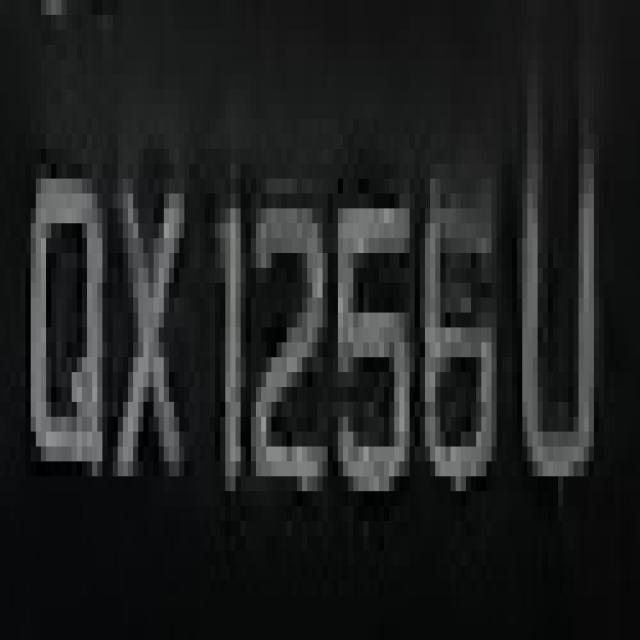1: (194, 104, 251, 581)
2: (235, 119, 333, 595)
5: (322, 178, 410, 536)
6: (404, 104, 492, 536)
Q: (21, 119, 112, 536)
U: (497, 119, 604, 491)
X: (108, 134, 190, 506)
